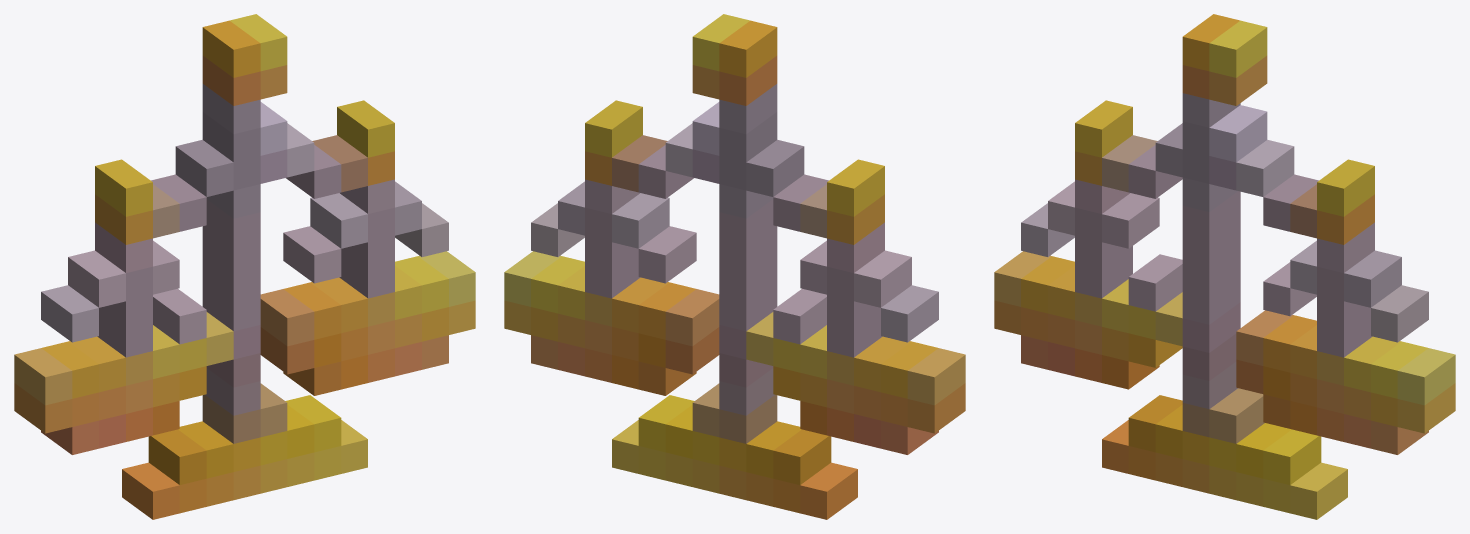
File: balance-scale.glb
3 renders of one model, left to right at view 1: azimuth 30°, elevation 25°; view 2: azimuth 150°, elevation 25°; view 3: azimuth 330°, elevation 25°, orthographic.
Visible parts, largest first — view 1: prop; view 2: prop; view 3: prop.
Boxes of the visible parts, box(x1,y1,x2,y2) form: prop: box(14, 14, 475, 519); prop: box(504, 14, 965, 519); prop: box(994, 14, 1455, 519).
Size of the model in its own units: 16 by 16 by 2.
